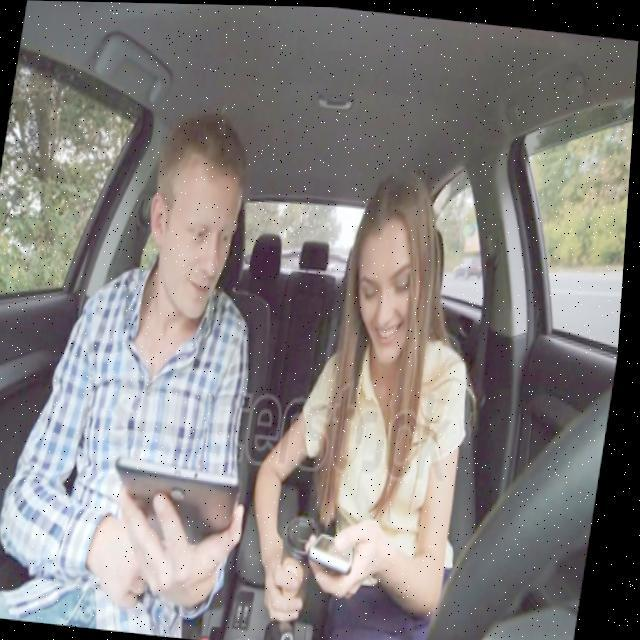Drinking: (280, 516, 330, 608)
PhoneCall: (314, 525, 365, 570)
